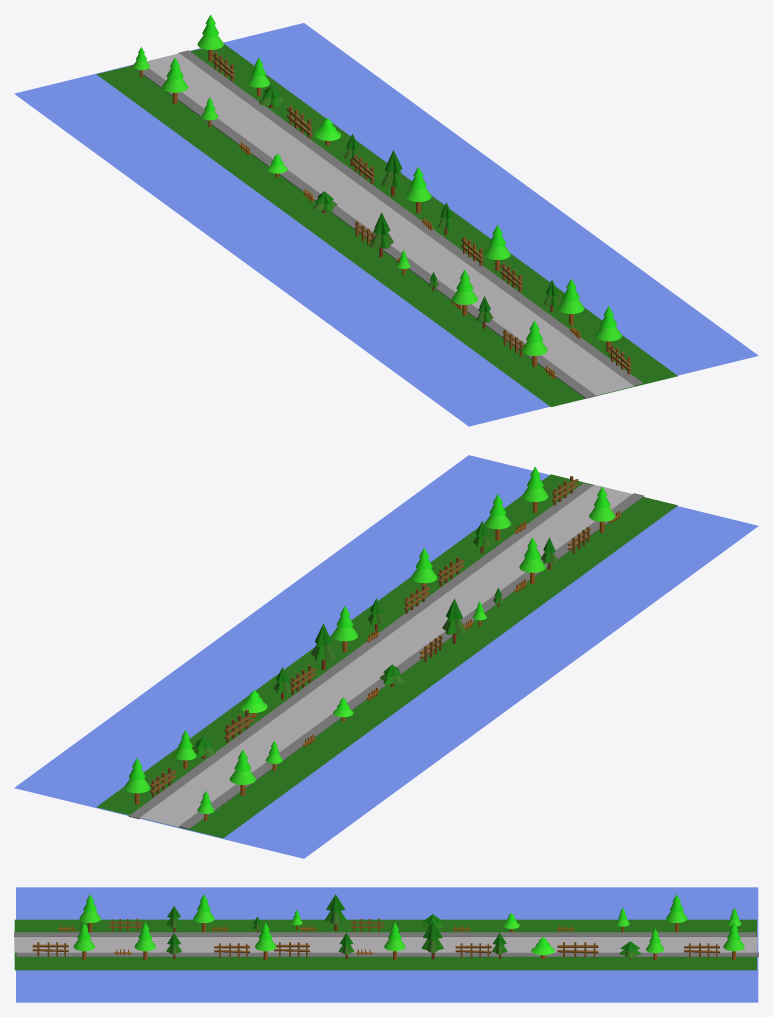
File: camino 1.fbx
3 renders of one model, top to bottom at view 1: azimuth 30°, elevation 25°; view 2: azimuth 150°, elevation 25°; view 3: azimuth 270°, elevation 25°, orthographic. The views are drawn at different scales.
Visible parts, largest first — view 1: agua, pasto, calle, banqueta izrd.001, banqueta izrd; view 2: agua, pasto, calle, banqueta izrd.001, banqueta izrd; view 3: agua, pasto, calle, banqueta izrd, banqueta izrd.001, Cono.001, Cono.003, Cilindro.004, Cilindro.001, Cilindro.002, Cilindro.003, Cilindro.005 (+18 smaller).
Boxes of the visible parts, bbox=[...] form: agua: bbox=[14, 23, 758, 426]; pasto: bbox=[96, 43, 677, 406]; calle: bbox=[147, 53, 633, 395]; banqueta izrd.001: bbox=[178, 50, 643, 385]; banqueta izrd: bbox=[131, 64, 596, 398]; agua: bbox=[14, 455, 758, 858]; pasto: bbox=[96, 474, 677, 838]; calle: bbox=[140, 484, 631, 826]; banqueta izrd.001: bbox=[128, 483, 593, 819]; banqueta izrd: bbox=[179, 493, 644, 829]; agua: bbox=[16, 887, 758, 1002]; pasto: bbox=[14, 919, 756, 970]; calle: bbox=[15, 937, 757, 952]; banqueta izrd: bbox=[14, 932, 756, 937]; banqueta izrd.001: bbox=[16, 952, 758, 957]; Cono.001: bbox=[421, 922, 443, 959]; Cono.003: bbox=[325, 894, 346, 930]; Cilindro.004: bbox=[79, 894, 100, 932]; Cilindro.001: bbox=[255, 922, 276, 960]; Cilindro.002: bbox=[134, 922, 155, 960]; Cilindro.003: bbox=[73, 922, 94, 960]; Cilindro.005: bbox=[193, 894, 214, 932].
Bounding box in the file's own units: 5895 × 927 × 16064.
